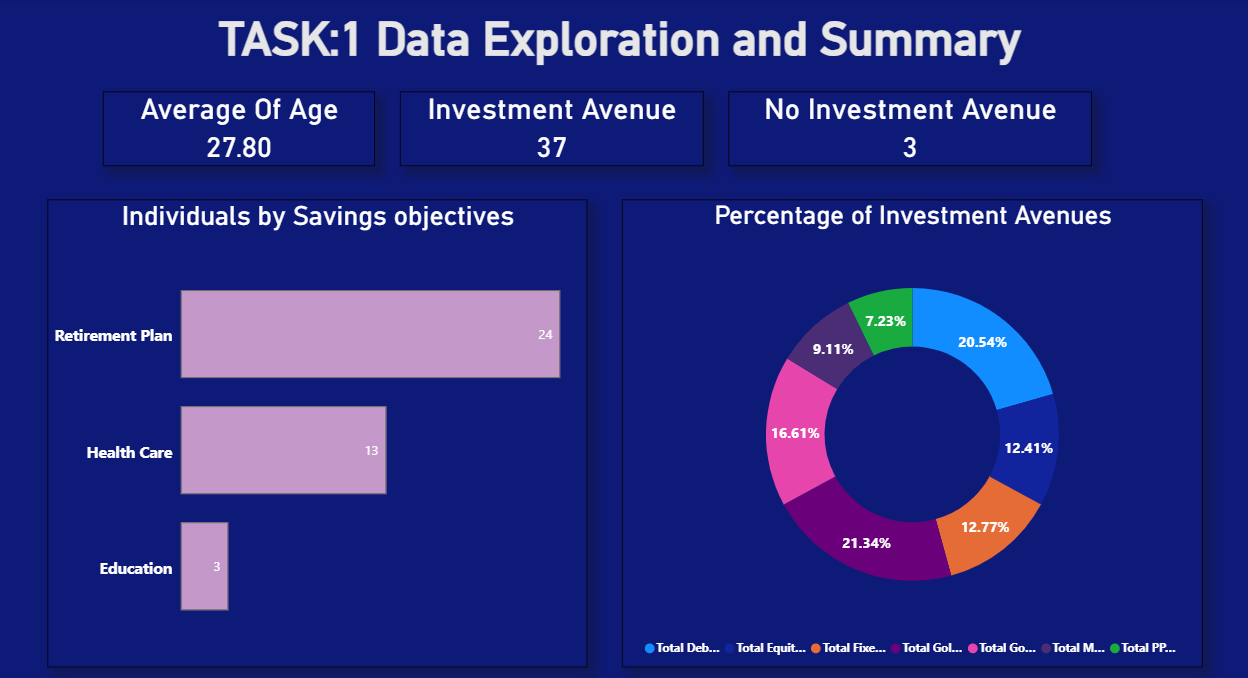

What the dashboard file says about the page in this screenshot:
{"tool":"powerbi","page":{"name":"Task 1","canvas":[1290,710],"ordinal":0},"visuals":[{"type":"card","title":"Average Of Age","fields":{"Values":["Data_set 2.Average Age"]},"box":[110.4,97.8,279.5,76.9],"z":0},{"type":"textbox","title":"TASK:1 Data Exploration and Summary","box":[22.4,15.4,1238.3,62.9],"z":1000},{"type":"card","title":"Investment Avenue","fields":{"Values":["Data_set 2.Investment Avenue"]},"box":[416.5,97.8,311.7,76.9],"z":2000},{"type":"card","title":"No Investment Avenue","fields":{"Values":["Data_set 2.No Investment Avenue"]},"box":[753.3,97.8,373.2,76.9],"z":3000},{"type":"clusteredBarChart","fields":{"Category":["Data_set 2.What are your savings objectives?"],"Y":["CountNonNull(Data_set 2.gender)"]},"box":[54.5,208.2,554.9,480.8],"z":4000},{"type":"donutChart","title":"Percentage of Investment Avenues","fields":{"Y":["Data_set 2.Total Debentures","Data_set 2.Total Equity Market","Data_set 2.Total Fixed Deposits","Data_set 2.Total Gold","Data_set 2.Total Government Bonds","Data_set 2.Total Mutual Funds","Data_set 2.Total PPF investments"]},"box":[644.3,208.2,596.8,480.8],"z":5001}]}

Visuals, with their boxes in screenshot pixels (x1, y1, x2, y2), scaled from the page's 1290x710 canvas onto the 1248x678 screenshot:
"Average Of Age" card: region(107, 93, 377, 167)
"TASK:1 Data Exploration and Summary" textbox: region(22, 15, 1220, 75)
"Investment Avenue" card: region(403, 93, 704, 167)
"No Investment Avenue" card: region(729, 93, 1090, 167)
clusteredBarChart - Data_set 2.What are your savings objectives? x CountNonNull(Data_set 2.gender): region(53, 199, 590, 658)
"Percentage of Investment Avenues" donutChart: region(623, 199, 1201, 658)
